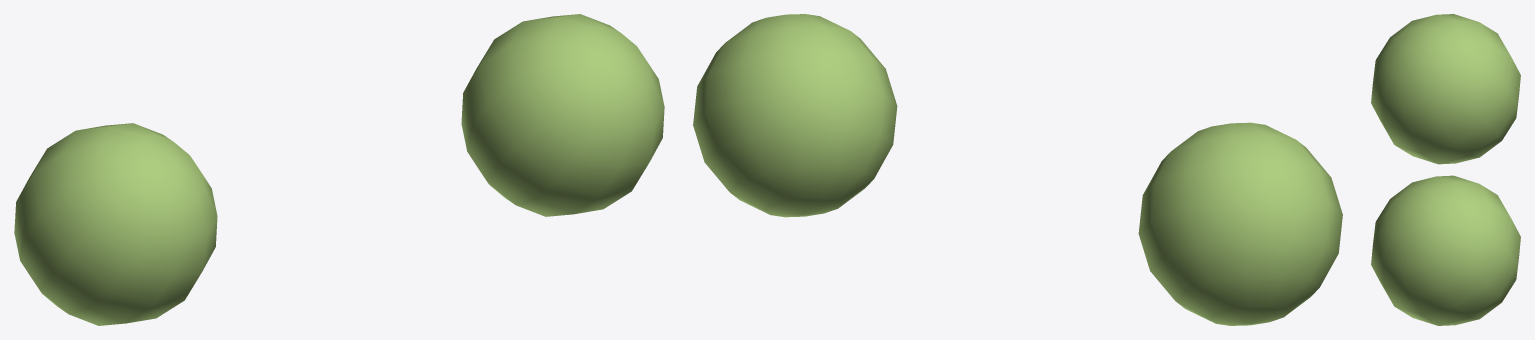
Rendered from apical-axillary-nodes-l.glb.
3 renders of one model, left to right at view 1: azimuth 30°, elevation 25°; view 2: azimuth 150°, elevation 25°; view 3: azimuth 270°, elevation 25°, orthographic. The views are drawn at different scales.
Parts seen in each view (by area): view 1: Apical axillary nodes.l; view 2: Apical axillary nodes.l; view 3: Apical axillary nodes.l.
Part boxes in pixels (<box>): Apical axillary nodes.l: <box>14,14,664,325</box>; Apical axillary nodes.l: <box>693,14,1342,325</box>; Apical axillary nodes.l: <box>1371,14,1520,325</box>.
Bounding box in the file's own units: 0.00911 × 0.00258 × 0.00256.
